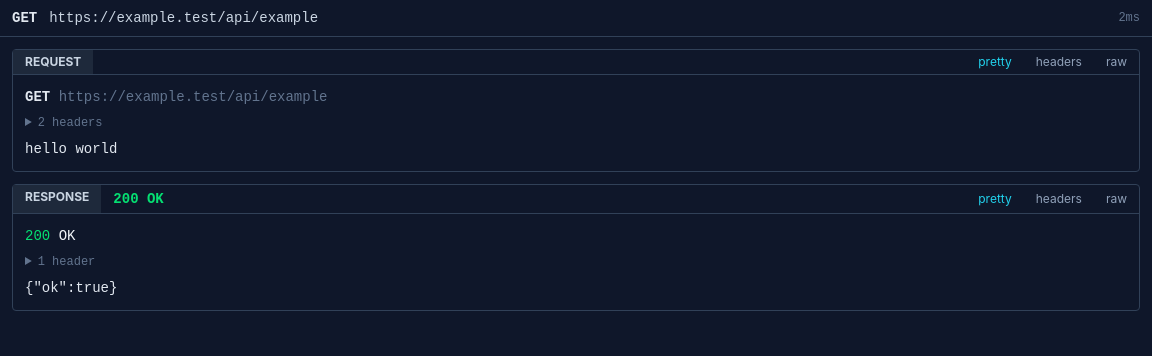
ExchangeDetail › toggles the sub-tabs on the request inspector
expect the element with test id "request-inspector-pretty" is shown: met, box [25, 89, 328, 157]
// Switch to headers.
Click the button with test id "request-inspector-tab-headers".
click(1059, 62)  # box [1024, 50, 1094, 74]
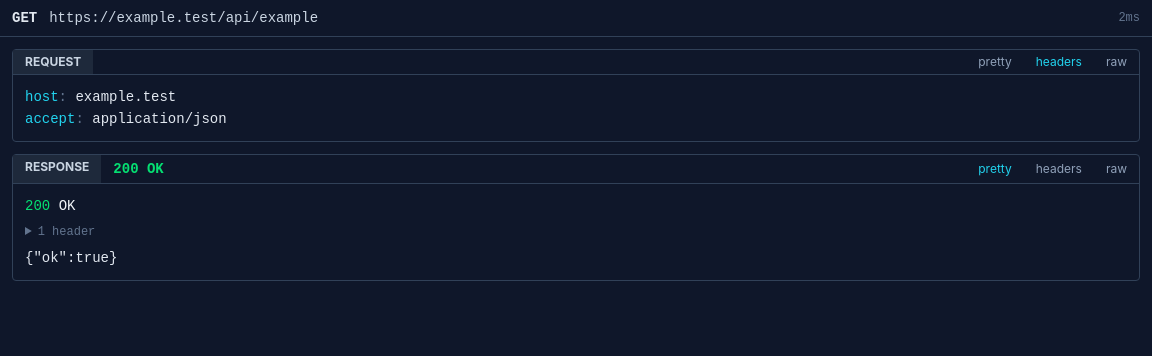
expect the element with test id "request-inspector-pretty" is gone: met
expect the element with test id "request-inspector-headers" is shown: met, box [25, 89, 227, 127]
expect the element with test id "request-inspector-headers" shows "host": met, box [25, 89, 59, 105]
// Switch to raw.
Click the button with test id "request-inspector-tab-raw".
click(1116, 62)  # box [1094, 50, 1139, 74]
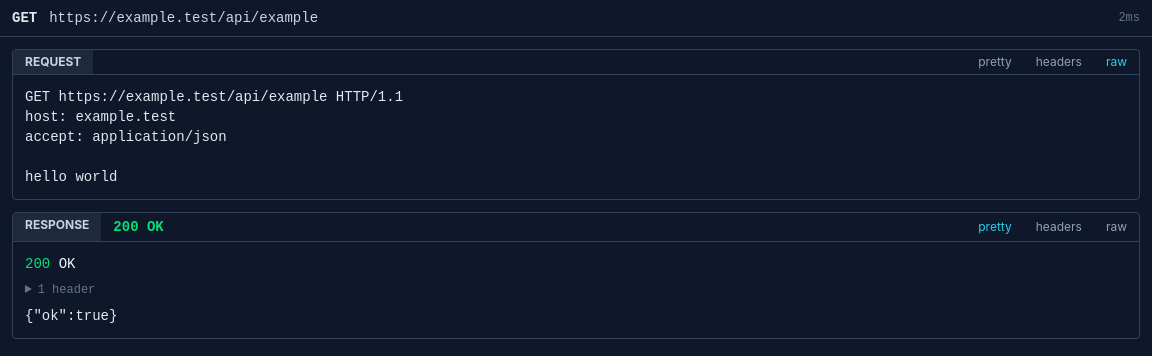
expect the element with test id "request-inspector-headers" is gone: met
expect the text with test id "request-inspector-raw" is shown: met, box [25, 89, 403, 185]
expect the text with test id "request-inspector-raw" shows "GET https://example.test/api/example HTTP/1.1": met, box [25, 89, 403, 105]
// Back to pretty.
Click the button with test id "request-inspector-tab-pretty".
click(995, 62)  # box [966, 50, 1024, 74]
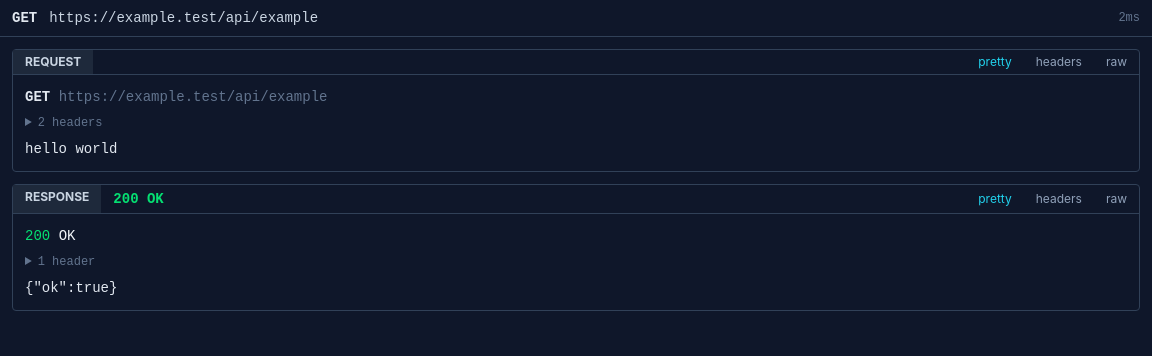
expect the text with test id "request-inspector-raw" is gone: met
expect the element with test id "request-inspector-pretty" is shown: met, box [25, 89, 328, 157]
